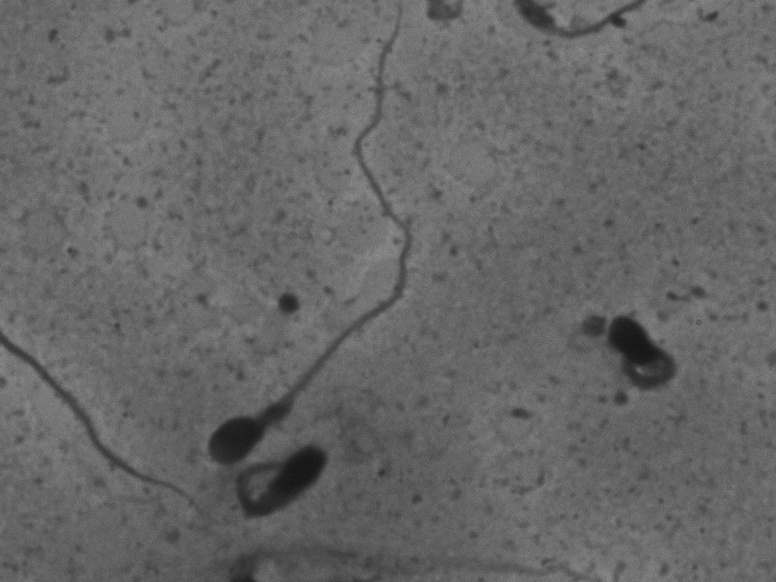Abnormal: (565, 290, 718, 435), (227, 430, 336, 534)
Normal: (197, 5, 434, 475)
